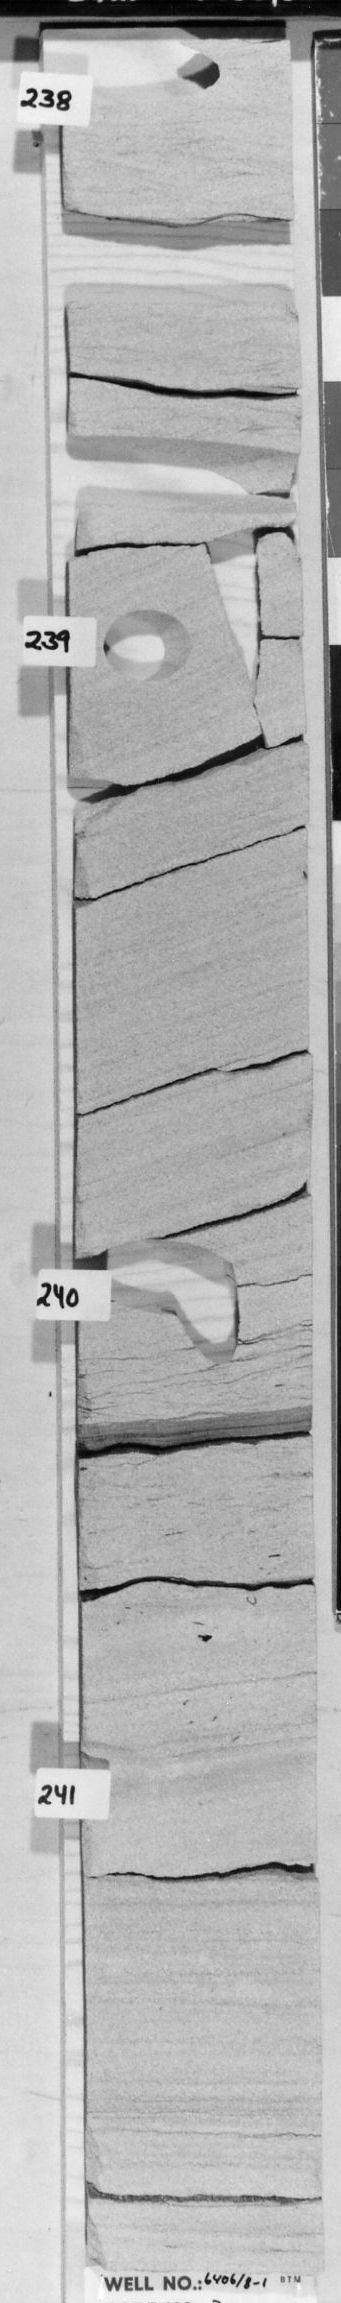hplug: (88, 44, 229, 115), (96, 604, 204, 693), (104, 1237, 176, 1320)
scal: (68, 422, 290, 513)
vplug: (207, 535, 272, 698), (176, 1232, 245, 1369)
